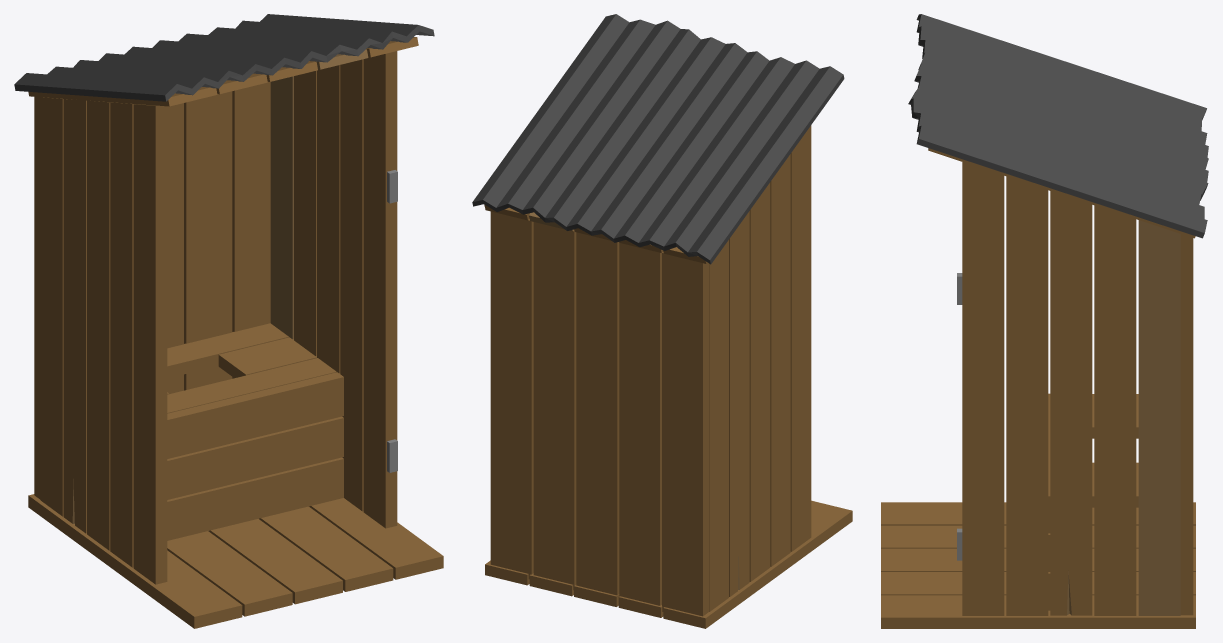
File: Toilet_01.fbx
3 views of the same model, side by side, from view 1: azimuth 30°, elevation 25°; view 2: azimuth 150°, elevation 25°; view 3: azimuth 270°, elevation 25° (orthographic). The views are drawn at different scales.
Visible parts, largest first — view 1: Toilet_01; view 2: Toilet_01; view 3: Toilet_01.
Part boxes in pixels (<box>): Toilet_01: <box>14,14,443,628</box>; Toilet_01: <box>472,14,852,628</box>; Toilet_01: <box>881,14,1208,628</box>.
Size of the model in its own units: 140 by 265 by 156.
